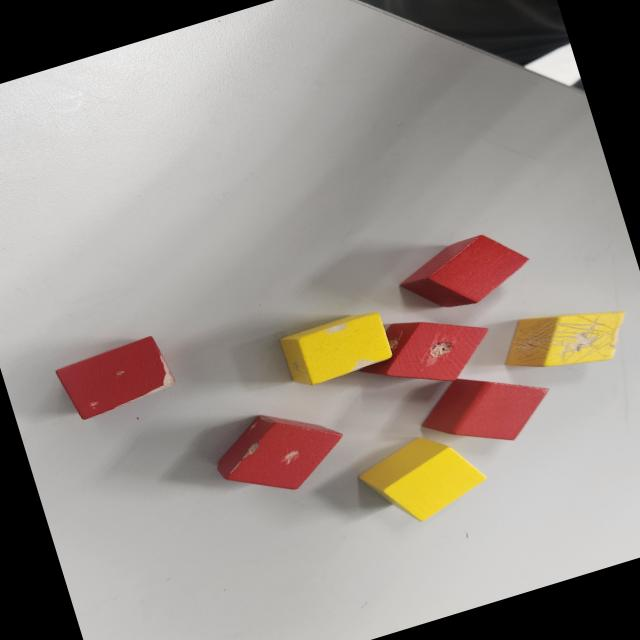broken: (203, 392, 354, 510), (348, 296, 500, 406), (494, 288, 638, 388), (51, 332, 178, 424), (275, 306, 393, 392)
red: (410, 352, 560, 465), (391, 224, 535, 324)
yellow: (352, 422, 495, 534)
